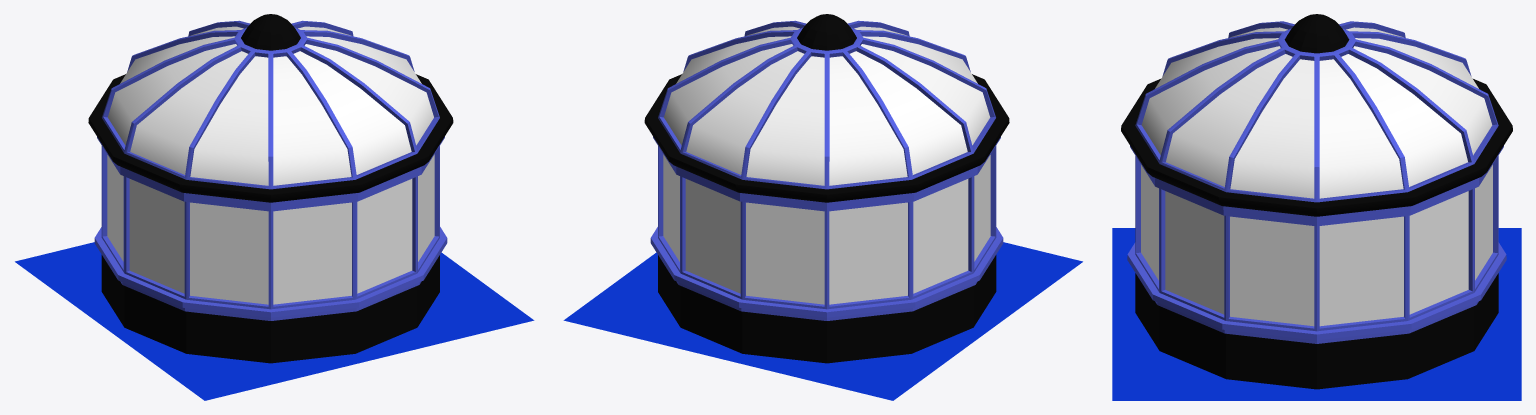
The model's file is greenhouse_blue.fbx.
3 views of the same model, side by side, from view 1: azimuth 30°, elevation 25°; view 2: azimuth 150°, elevation 25°; view 3: azimuth 270°, elevation 25° (orthographic). The views are drawn at different scales.
Parts seen in each view (by area): view 1: greenhouse, ten_ten; view 2: greenhouse, ten_ten; view 3: greenhouse, ten_ten.
Part boxes in pixels (x1=…): greenhouse: x1=88, y1=14, x2=453, y2=363; ten_ten: x1=15, y1=242, x2=534, y2=400; greenhouse: x1=644, y1=14, x2=1009, y2=363; ten_ten: x1=563, y1=242, x2=1082, y2=400; greenhouse: x1=1121, y1=14, x2=1512, y2=389; ten_ten: x1=1112, y1=228, x2=1521, y2=400.
Size of the model in its own units: 10 by 8.04 by 10.
